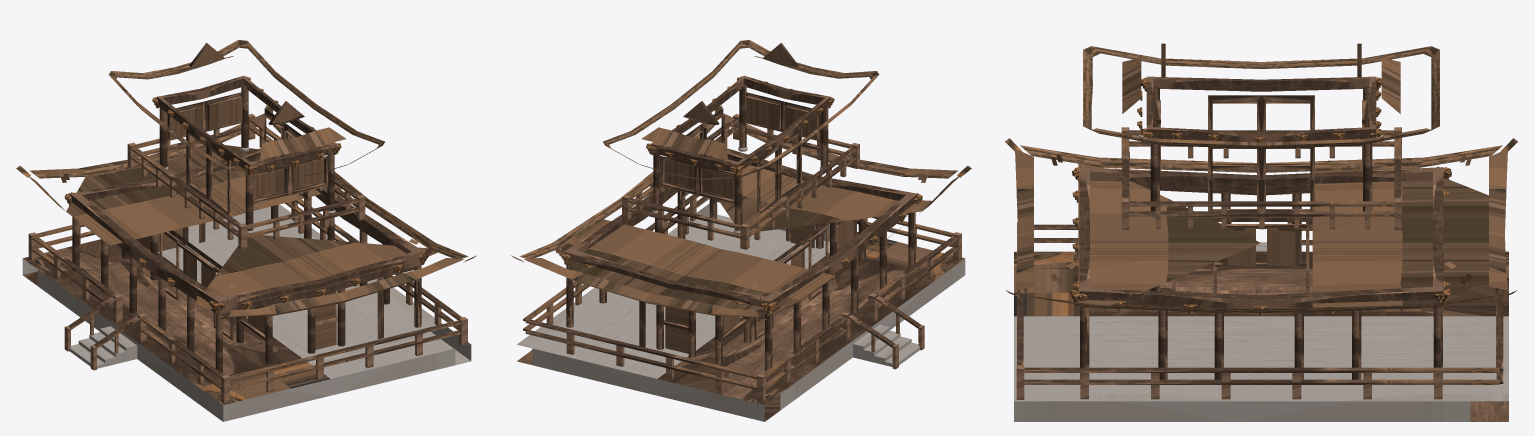
Rendered from JapaneseTemple.fbx.
The picture shows the model from 3 angles, left to right: view 1: azimuth 30°, elevation 25°; view 2: azimuth 150°, elevation 25°; view 3: azimuth 270°, elevation 25°; orthographic projection. The views are drawn at different scales.
Visible parts, largest first — view 1: Object_7; view 2: Object_7; view 3: Object_7.
Boxes of the visible parts, x1,y1,x2,y2 form: Object_7: [16, 40, 476, 421]; Object_7: [511, 40, 971, 421]; Object_7: [1005, 43, 1517, 421].
Size of the model in its own units: 1093 by 940 by 1332.
